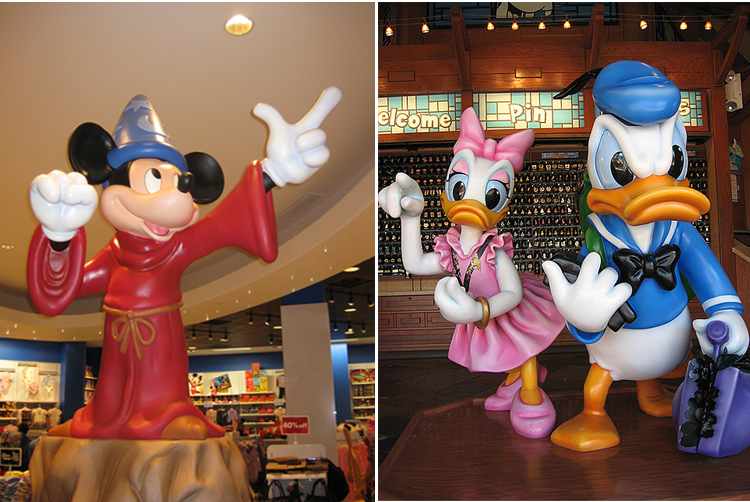Mickey: (67, 120, 227, 241)
